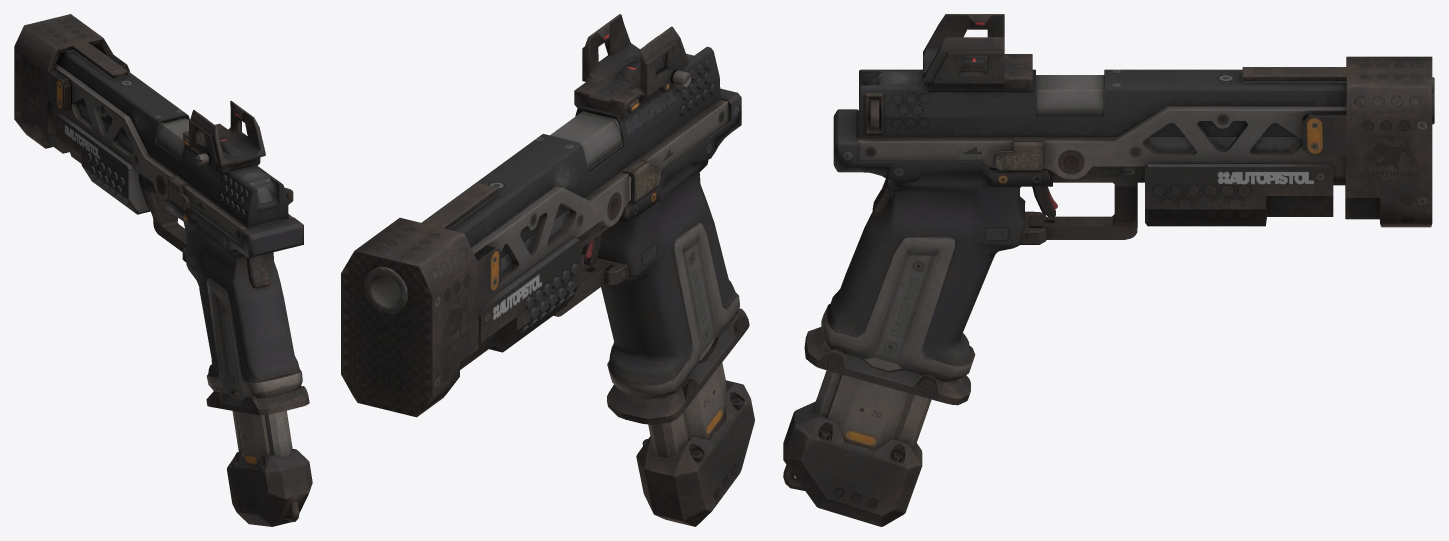
The model's file is apex_re45.glb.
The picture shows the model from 3 angles, left to right: view 1: azimuth 30°, elevation 25°; view 2: azimuth 150°, elevation 25°; view 3: azimuth 270°, elevation 25°; orthographic projection. The views are drawn at different scales.
Parts seen in each view (by area): view 1: body__tex_apex_re45_1, slide__tex_apex_re45_m0, mag__tex_apex_re45_2, irons__tex_apex_re45_3; view 2: body__tex_apex_re45_1, slide__tex_apex_re45_m0, mag__tex_apex_re45_2, irons__tex_apex_re45_3; view 3: body__tex_apex_re45_1, slide__tex_apex_re45_m0, mag__tex_apex_re45_2, irons__tex_apex_re45_3.
Part boxes in pixels (x1,y1,x2,y2): body__tex_apex_re45_1: (14, 14, 309, 415); slide__tex_apex_re45_m0: (55, 45, 293, 226); mag__tex_apex_re45_2: (227, 391, 312, 526); irons__tex_apex_re45_3: (183, 101, 265, 173); body__tex_apex_re45_1: (341, 88, 749, 424); slide__tex_apex_re45_m0: (421, 46, 720, 257); mag__tex_apex_re45_2: (636, 338, 754, 526); irons__tex_apex_re45_3: (574, 14, 691, 119); body__tex_apex_re45_1: (804, 56, 1434, 405); slide__tex_apex_re45_m0: (859, 69, 1346, 136); mag__tex_apex_re45_2: (783, 357, 931, 526); irons__tex_apex_re45_3: (923, 14, 1032, 92).
Bounding box in the file's own units: 0.0462 × 0.2515 × 0.3004.
Materials: 1 (1 with a texture image).
